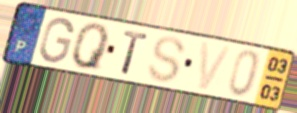0: (225, 49, 262, 99)
G: (36, 16, 76, 66)
Q: (70, 22, 112, 73)
S: (146, 35, 188, 85)
T: (120, 29, 151, 77)
V: (197, 40, 234, 92)
